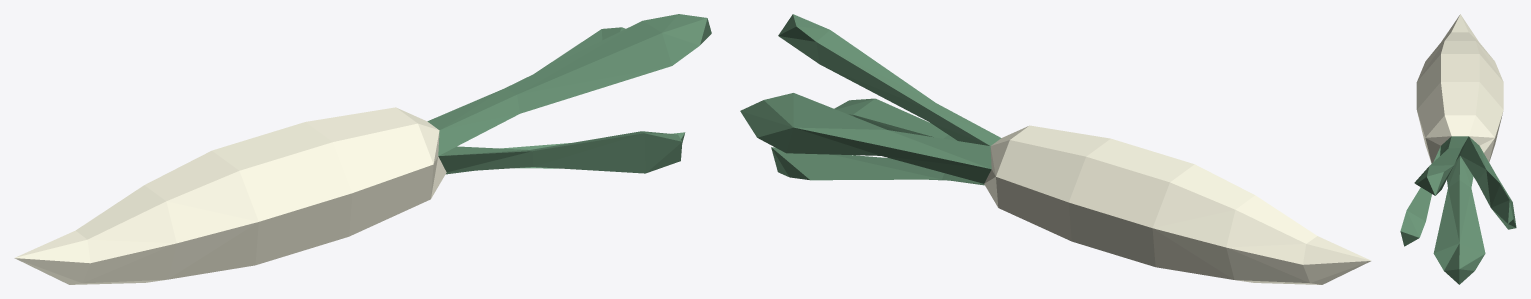
The model's file is 白萝卜.fbx.
3 views of the same model, side by side, from view 1: azimuth 30°, elevation 25°; view 2: azimuth 150°, elevation 25°; view 3: azimuth 270°, elevation 25° (orthographic). The views are drawn at different scales.
Parts seen in each view (by area): view 1: 萝卜; view 2: 萝卜; view 3: 萝卜.
Part boxes in pixels (box(x1,y1,x2,y2)): 萝卜: box(14, 14, 711, 284); 萝卜: box(740, 14, 1371, 284); 萝卜: box(1400, 14, 1516, 284).
Size of the model in its own units: 56.72 by 12.58 by 11.98.
Materials: 1 (1 with a texture image).
